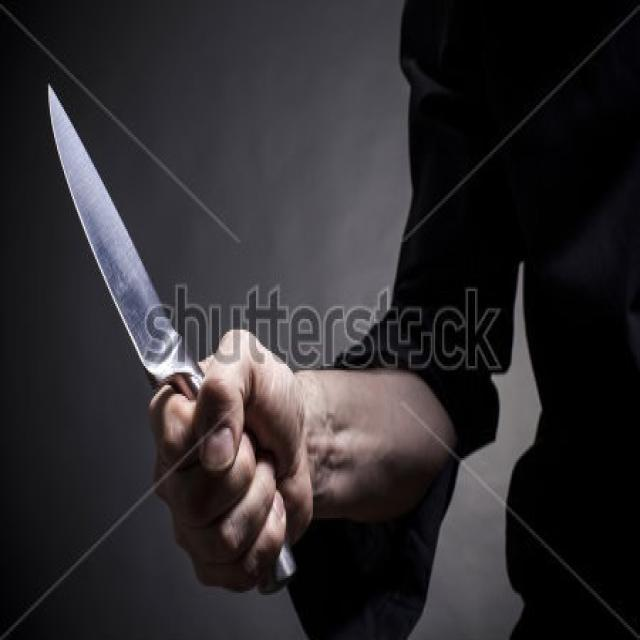knife: (45, 83, 210, 405)
